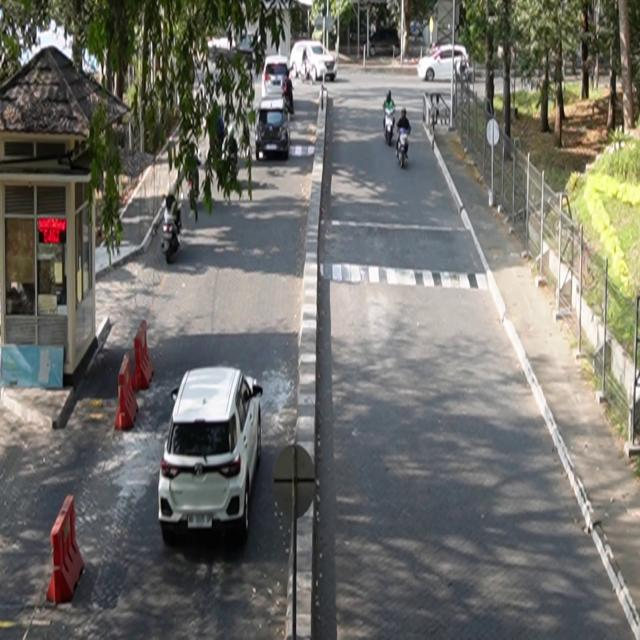car: (159, 366, 264, 544), (256, 97, 291, 161), (418, 45, 471, 83), (263, 55, 292, 99)
